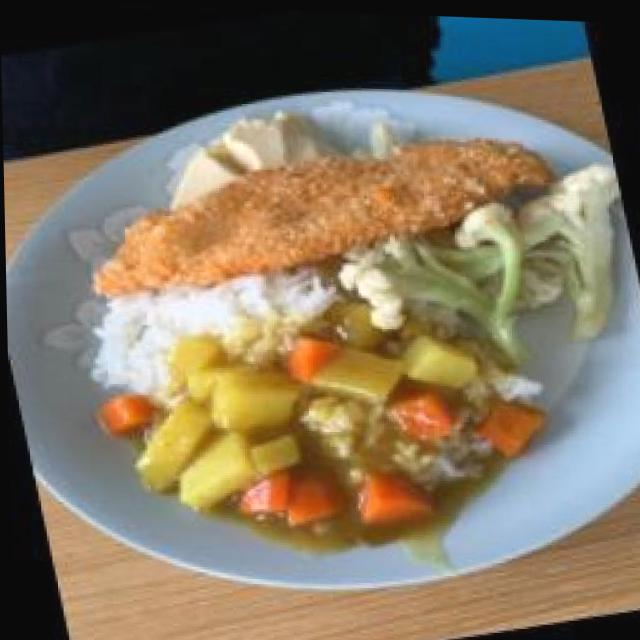curry: (77, 262, 580, 600)
fried_chicken: (65, 102, 568, 316)
rice: (71, 249, 332, 404)
